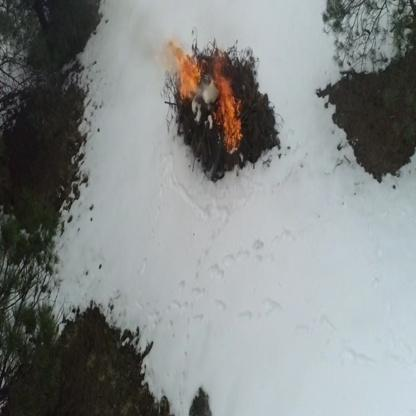Fire: (221, 96, 242, 154), (179, 61, 201, 102), (215, 58, 235, 98), (213, 112, 241, 126), (172, 47, 188, 61)
